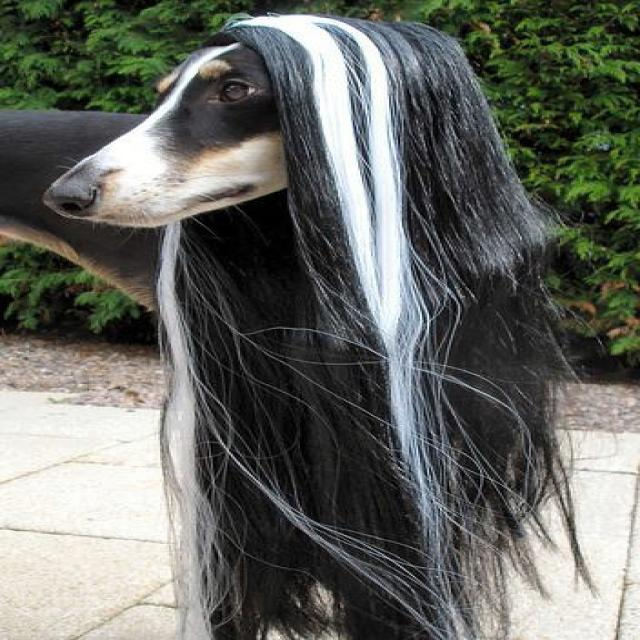saluki: (4, 10, 602, 638)
